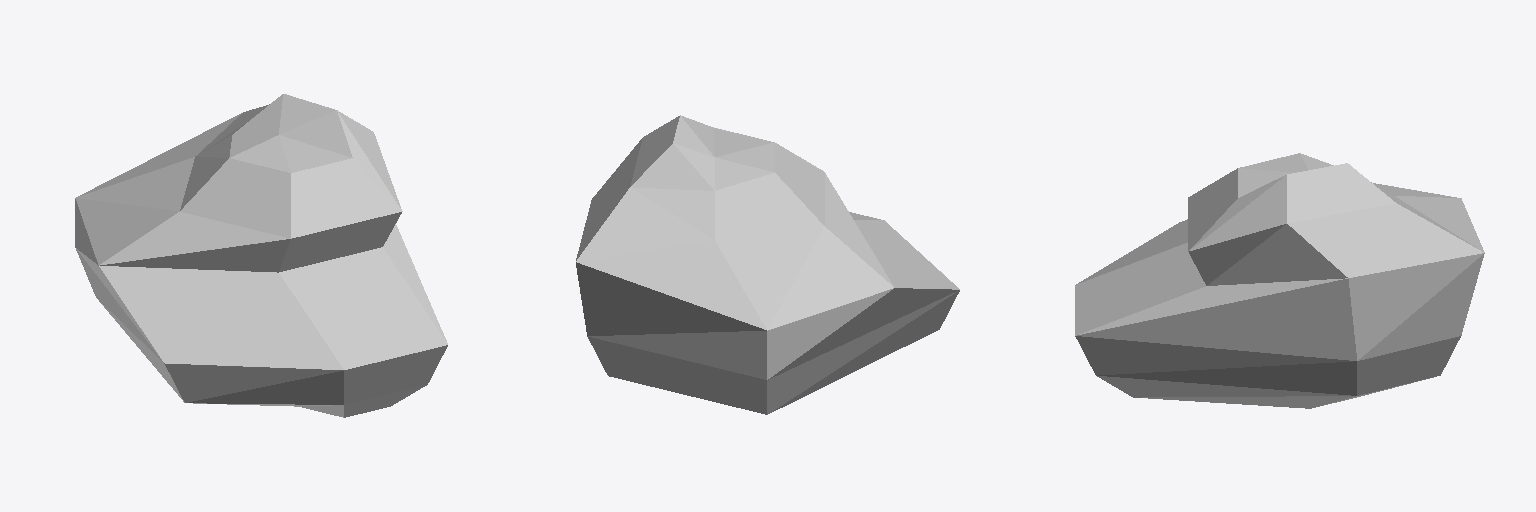
File: Rockdark2.obj
The picture shows the model from 3 angles: view 1: azimuth 30°, elevation 25°; view 2: azimuth 150°, elevation 25°; view 3: azimuth 270°, elevation 25°; orthographic projection.
Parts seen in each view (by area): view 1: pSphere5; view 2: pSphere5; view 3: pSphere5.
Part boxes in pixels (x1,y1,x2,y2): pSphere5: (75, 94, 447, 417); pSphere5: (576, 115, 959, 414); pSphere5: (1075, 153, 1484, 408).
Bounding box in the file's own units: 2.66 × 2.2 × 3.32.